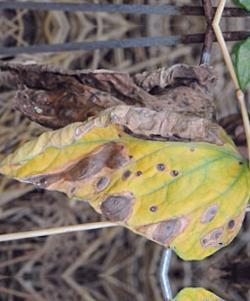Tomato Early blight leaf: (0, 69, 250, 265)
